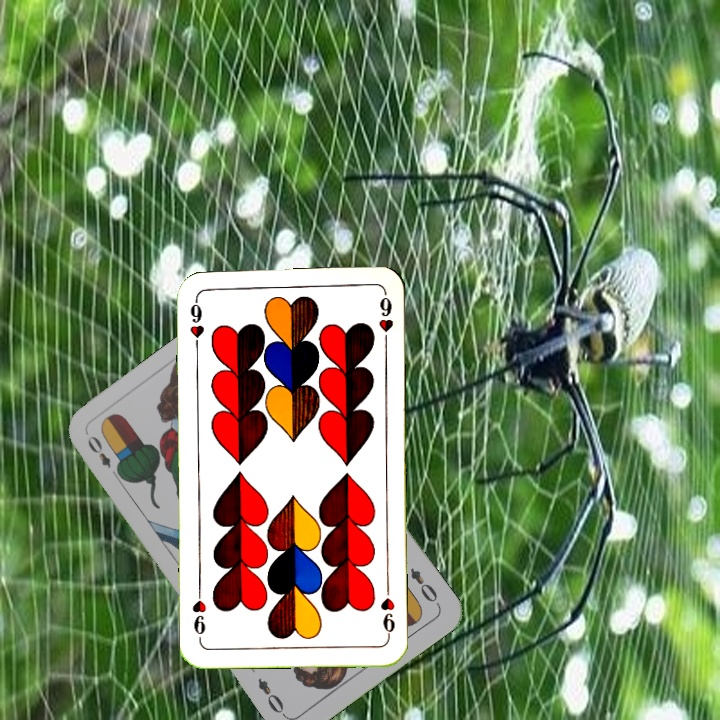EO: (83, 431, 124, 482), (406, 564, 443, 609)
H9: (377, 582, 398, 641), (186, 293, 207, 352)
